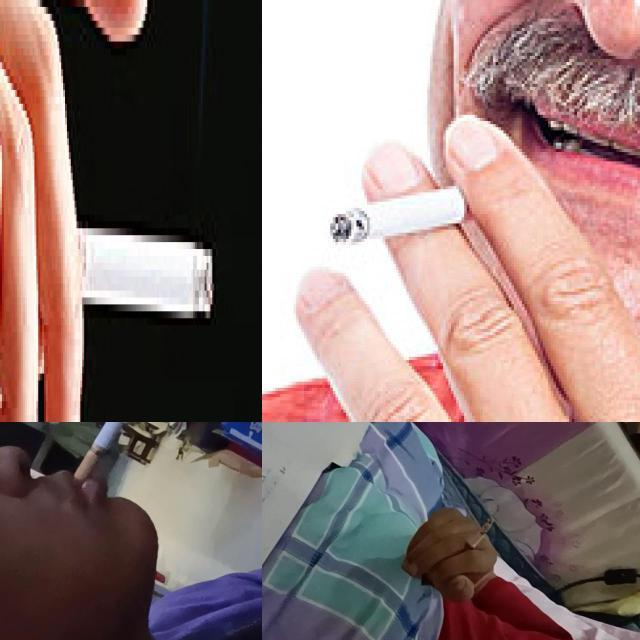smoking: (33, 217, 213, 319), (330, 171, 507, 246), (73, 422, 164, 483), (463, 518, 495, 554)
